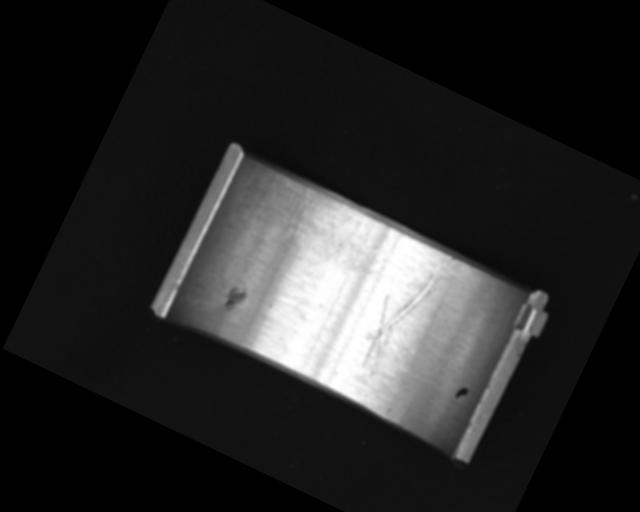blot: (452, 383, 471, 404)
bruise: (220, 282, 249, 314)
nick: (349, 237, 456, 389)
scratch: (251, 174, 379, 287)
